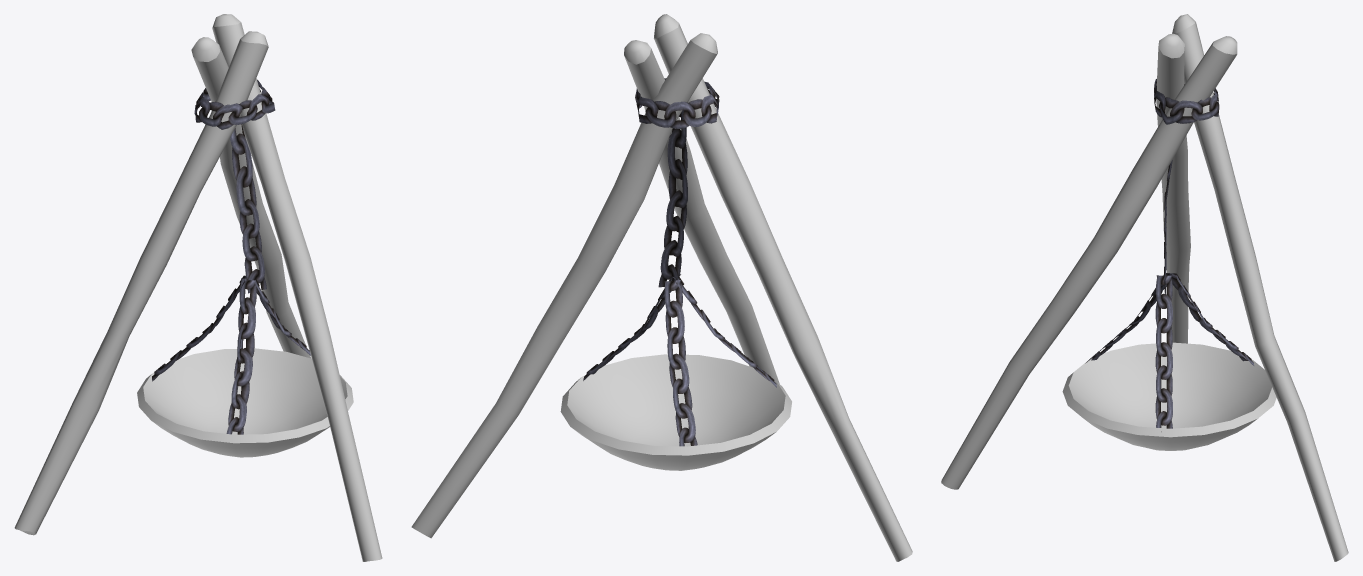
File: fireplace.FBX
3 renders of one model, left to right at view 1: azimuth 30°, elevation 25°; view 2: azimuth 150°, elevation 25°; view 3: azimuth 270°, elevation 25°, orthographic. The views are drawn at different scales.
Visible parts, largest first — view 1: fireplace; view 2: fireplace; view 3: fireplace.
Part boxes in pixels (x1,y1,x2,y2): fireplace: (14, 14, 382, 561); fireplace: (411, 14, 912, 561); fireplace: (941, 14, 1348, 561).
Bounding box in the file's own units: 71.55 × 81.2 × 65.52.
